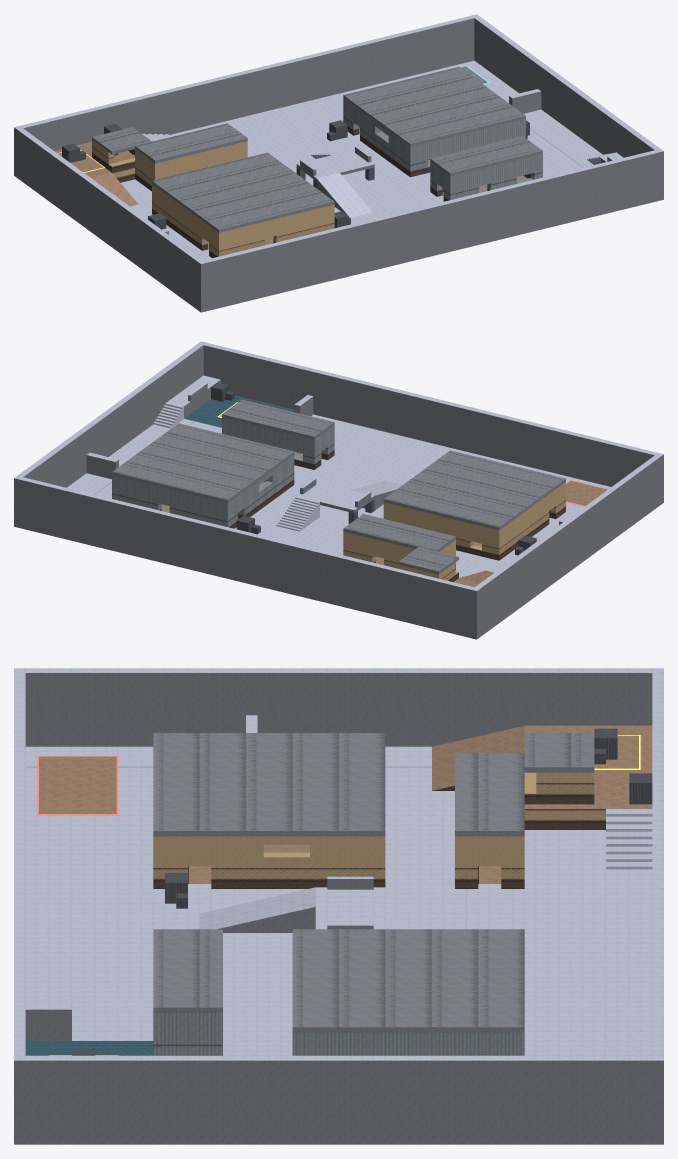
The model's file is arena_liminal_packed.glb.
3 views of the same model, one above another, from view 1: azimuth 30°, elevation 25°; view 2: azimuth 150°, elevation 25°; view 3: azimuth 270°, elevation 25° (orthographic). The views are drawn at different scales.
Parts seen in each view (by area): view 1: Structure; view 2: Structure; view 3: Structure.
Boxes of the visible parts, x1=… form: Structure: x1=14, y1=14, x2=663, y2=312; Structure: x1=14, y1=341, x2=663, y2=639; Structure: x1=14, y1=668, x2=663, y2=1144.
Size of the model in its own units: 80 by 8 by 56.
Materials: 6 (2 with a texture image).
